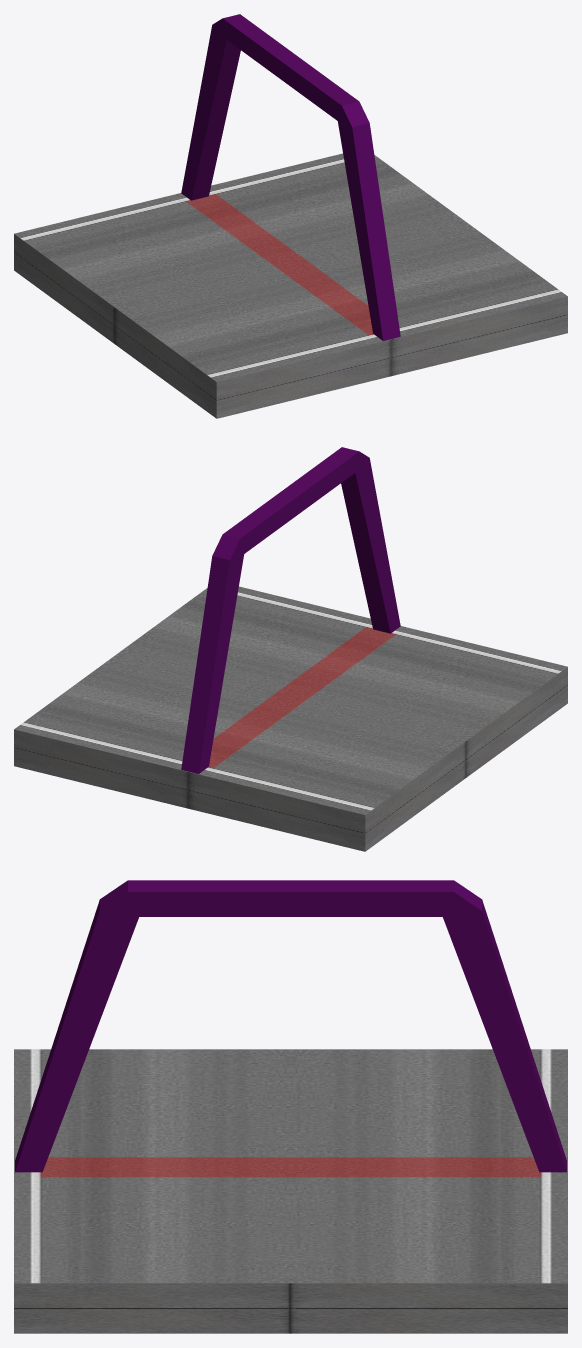
File: finish.fbx
The picture shows the model from 3 angles, top to bottom: view 1: azimuth 30°, elevation 25°; view 2: azimuth 150°, elevation 25°; view 3: azimuth 270°, elevation 25°; orthographic projection. The views are drawn at different scales.
Parts seen in each view (by area): view 1: finish; view 2: finish; view 3: finish.
Boxes of the visible parts, x1,y1,x2,y2 form: finish: (14, 14, 567, 418); finish: (14, 447, 567, 851); finish: (14, 880, 567, 1333).
Size of the model in its own units: 394 by 259 by 394.
3 materials, 2 textured.
